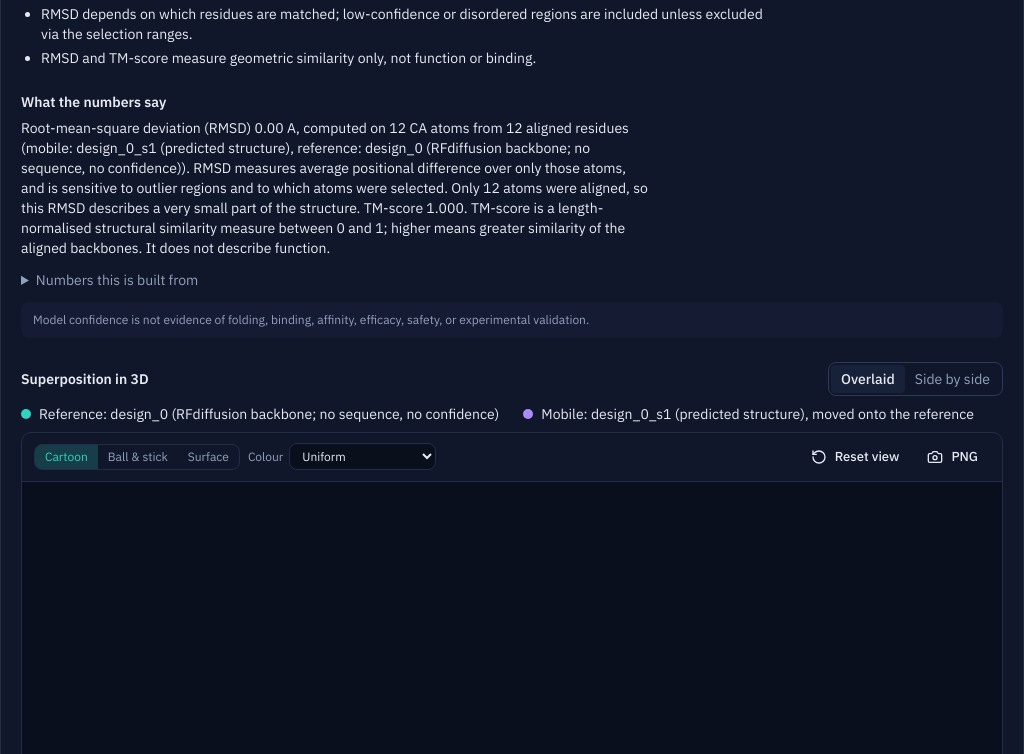
it: AlignmentPanel (Structural Analysis) › draws the reference with the mobile structure moved onto it by the returned transform
(page scrolled)
Step 1. Click the button "Side by side" → (952, 378), box [905, 364, 1000, 392]
(page scrolled)
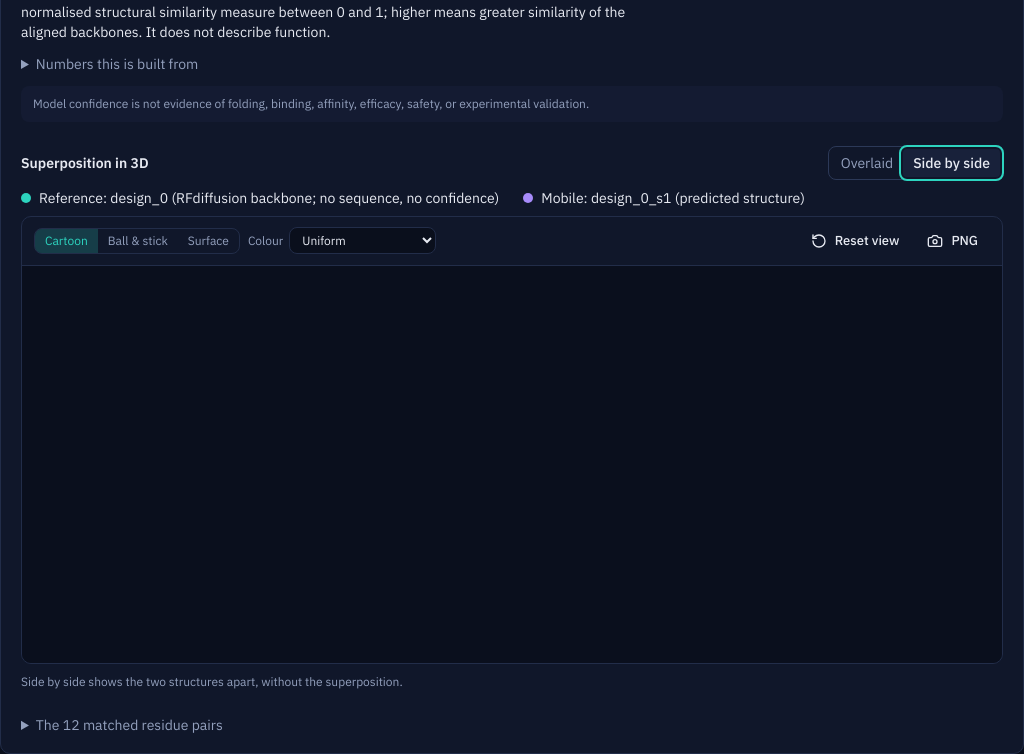
Now the text "Side by side shows the two structures apart, without the superposition." is shown, box [21, 674, 403, 688]
